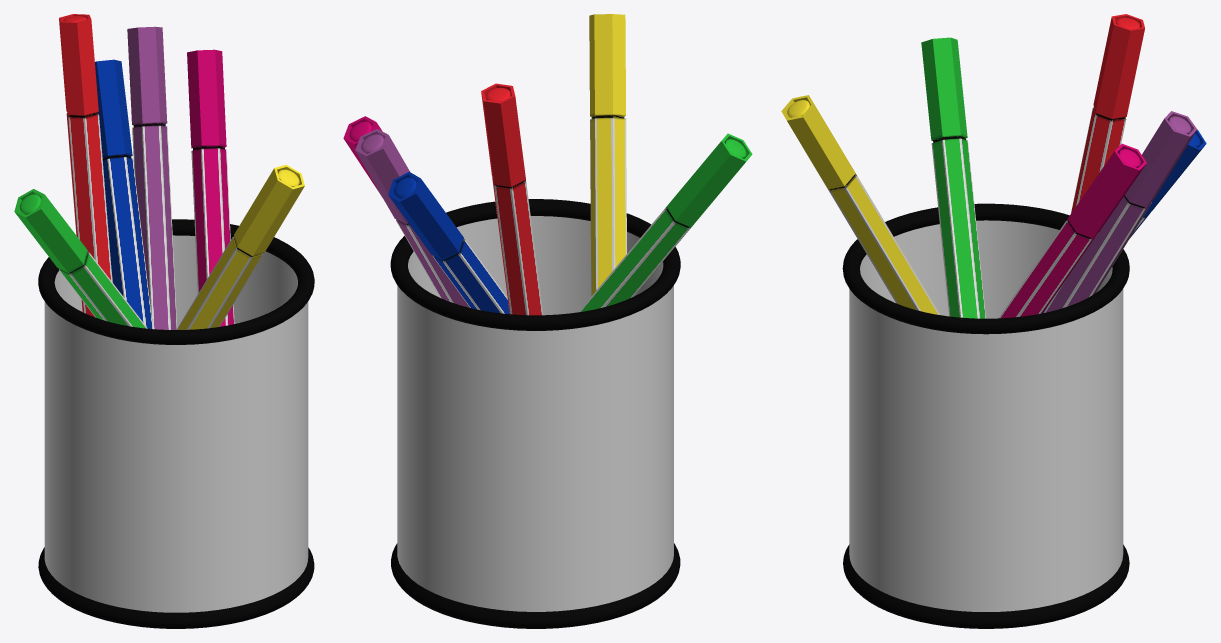
The picture shows the model from 3 angles, left to right: view 1: azimuth 30°, elevation 25°; view 2: azimuth 150°, elevation 25°; view 3: azimuth 270°, elevation 25°; orthographic projection. The views are drawn at different scales.
Visible parts, largest first — view 1: HighRes; view 2: HighRes; view 3: HighRes.
Boxes of the visible parts, x1,y1,x2,y2 form: HighRes: (14,14,314,628); HighRes: (343,14,752,628); HighRes: (781,14,1206,628).
Size of the model in its own units: 2.62 by 3.09 by 4.28.
Materials: 8 (6 with a texture image).
